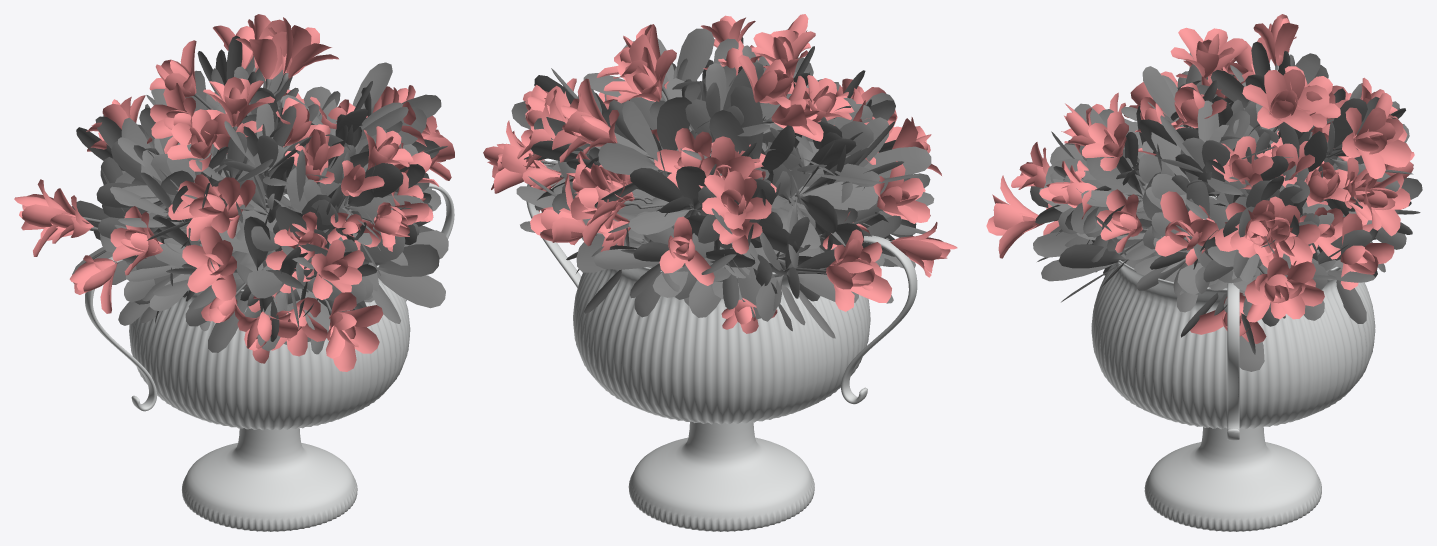
The picture shows the model from 3 angles, left to right: view 1: azimuth 30°, elevation 25°; view 2: azimuth 150°, elevation 25°; view 3: azimuth 270°, elevation 25°; orthographic projection. The views are drawn at different scales.
Visible parts, largest first — view 1: Arch41_043_obj_1, Arch41_043_obj_2, Arch41_043_obj_4, Arch41_043_obj_3; view 2: Arch41_043_obj_1, Arch41_043_obj_2, Arch41_043_obj_4, Arch41_043_obj_3, Arch41_043_obj_5; view 3: Arch41_043_obj_2, Arch41_043_obj_1, Arch41_043_obj_4, Arch41_043_obj_3.
Part boxes in pixels (x1=…): Arch41_043_obj_1: x1=72, y1=35, x2=448, y2=354; Arch41_043_obj_2: x1=85, y1=183, x2=454, y2=531; Arch41_043_obj_4: x1=40, y1=14, x2=454, y2=371; Arch41_043_obj_3: x1=14, y1=25, x2=451, y2=363; Arch41_043_obj_1: x1=511, y1=28, x2=934, y2=338; Arch41_043_obj_2: x1=526, y1=160, x2=917, y2=531; Arch41_043_obj_4: x1=487, y1=15, x2=941, y2=333; Arch41_043_obj_3: x1=483, y1=14, x2=957, y2=311; Arch41_043_obj_5: x1=647, y1=195, x2=820, y2=268; Arch41_043_obj_2: x1=1091, y1=196, x2=1375, y2=531; Arch41_043_obj_1: x1=1030, y1=41, x2=1422, y2=371; Arch41_043_obj_4: x1=986, y1=27, x2=1411, y2=319; Arch41_043_obj_3: x1=1039, y1=14, x2=1414, y2=343.
Size of the model in its own units: 77.66 by 81.11 by 71.15.
